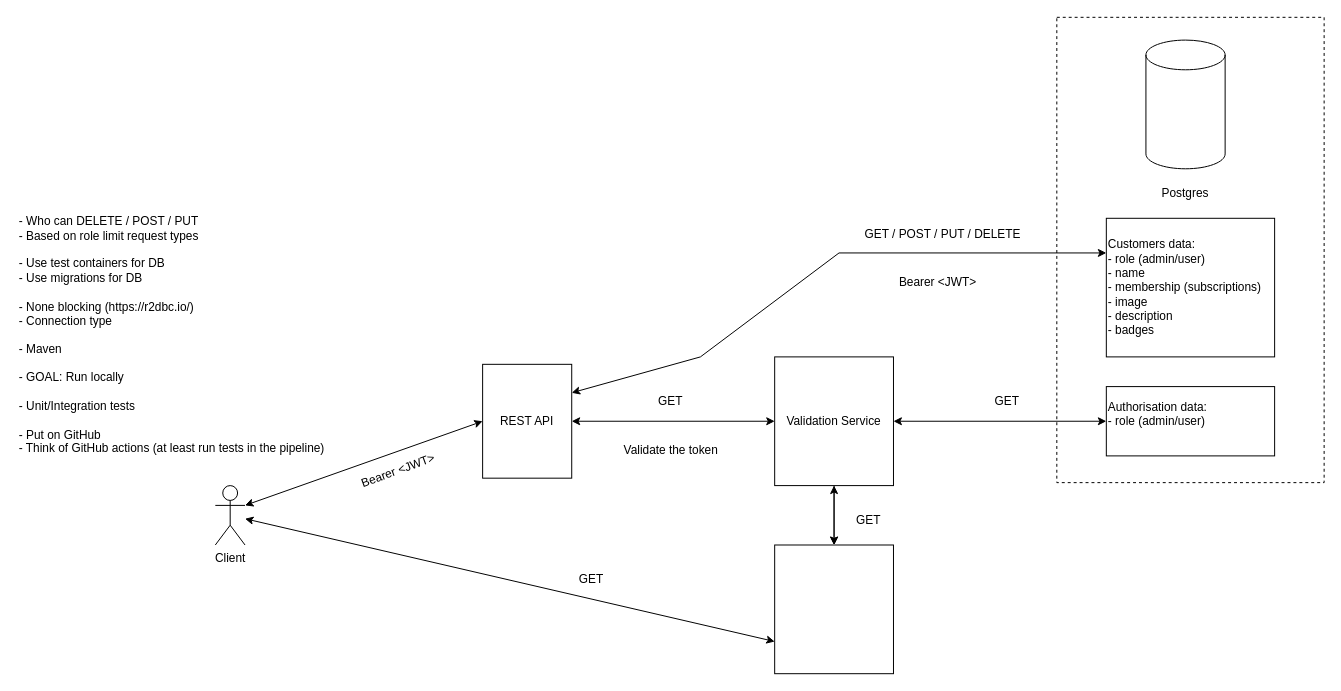
This 1341x691 diagram has some shape labels left out. Each missing label, with the centre of its shape:
"Auth Service (JWT)" goes at (833,609).
"DB" goes at (1185,104).
